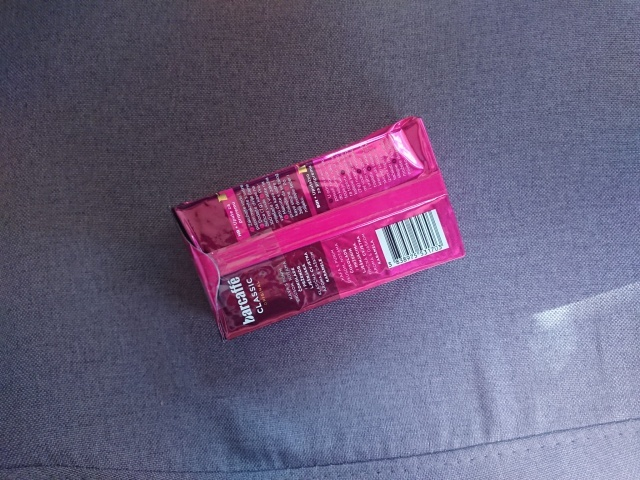Barcaffe Classic Original 225g: (167, 113, 469, 347)
